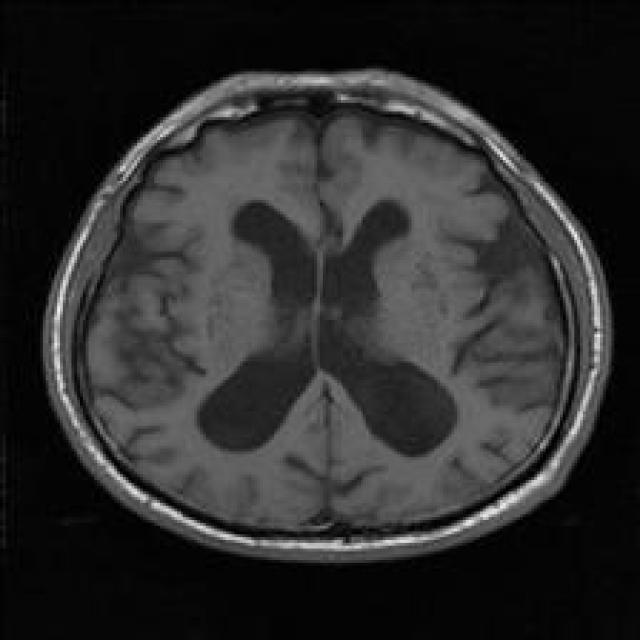no_tumor: (42, 52, 615, 545)
